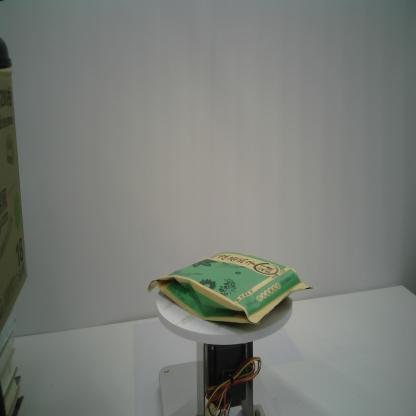Dried Food: (147, 252, 314, 326)
